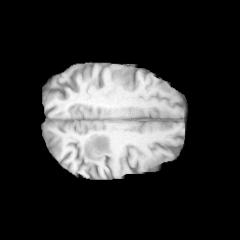glioma: (83, 133, 112, 161)
